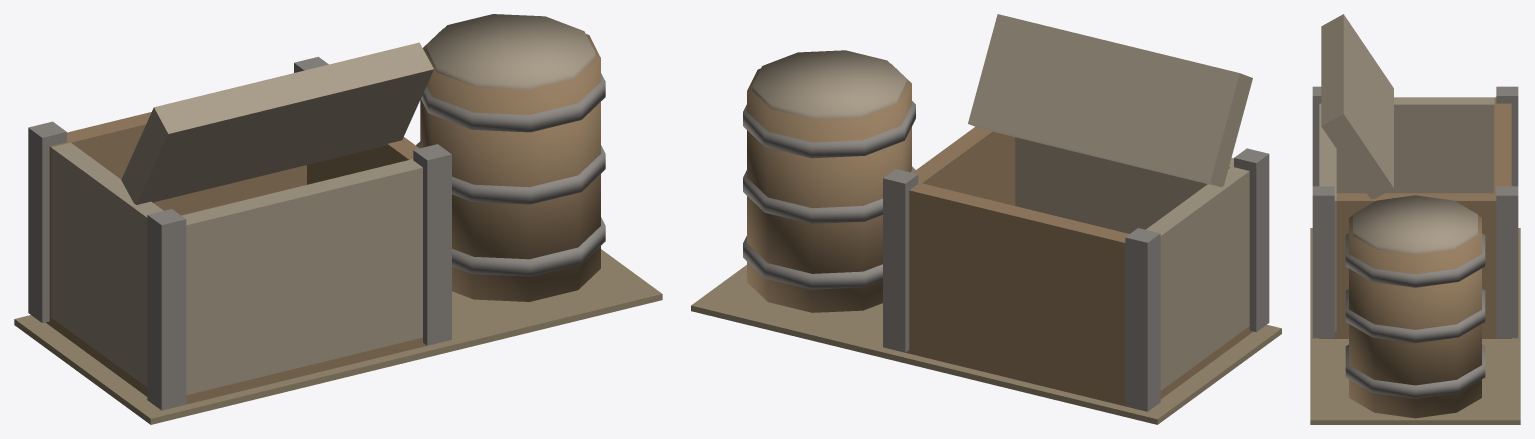
The model's file is inspect_crate.glb.
3 renders of one model, left to right at view 1: azimuth 30°, elevation 25°; view 2: azimuth 150°, elevation 25°; view 3: azimuth 270°, elevation 25°, orthographic. The views are drawn at different scales.
Visible parts, largest first — view 1: Crate_Front, Crate_Lid, Barrel_Body, Crate_Left, Crate_Mud, Barrel_Top, Crate_Iron_0, Crate_Back, Crate_Iron_1, Crate_Iron_2, Barrel_Hoop_0.36, Crate_Floor (+3 smaller); view 2: Crate_Back, Crate_Lid, Barrel_Body, Crate_Left, Crate_Mud, Crate_Front, Barrel_Top, Crate_Iron_2, Crate_Right, Crate_Iron_3, Crate_Iron_0, Barrel_Hoop_0.36 (+3 smaller); view 3: Barrel_Body, Crate_Left, Crate_Lid, Crate_Mud, Barrel_Top, Crate_Right, Crate_Iron_1, Crate_Iron_3, Barrel_Hoop_0.22, Barrel_Hoop_0.36, Barrel_Hoop_0.08, Crate_Back (+4 smaller).
Part boxes in pixels (x1,y1,x2,y2): Crate_Front: (181, 159, 422, 395); Crate_Lid: (121, 42, 433, 204); Barrel_Body: (420, 29, 600, 301); Crate_Left: (51, 142, 163, 387); Crate_Mud: (14, 249, 662, 424); Barrel_Top: (426, 14, 595, 89); Crate_Iron_0: (147, 209, 186, 410); Crate_Back: (49, 112, 306, 316); Crate_Iron_1: (413, 144, 451, 345); Crate_Iron_2: (28, 121, 66, 323); Barrel_Hoop_0.36: (421, 73, 605, 132); Crate_Floor: (46, 316, 426, 404); Crate_Back: (909, 182, 1129, 397); Crate_Lid: (968, 14, 1252, 187); Barrel_Body: (747, 64, 911, 312); Crate_Left: (1146, 167, 1248, 390); Crate_Mud: (691, 265, 1281, 424); Crate_Front: (1015, 137, 1249, 326); Barrel_Top: (752, 50, 906, 119); Crate_Iron_2: (1125, 228, 1160, 411); Crate_Right: (912, 127, 1015, 205); Crate_Iron_3: (883, 169, 918, 352); Crate_Iron_0: (1234, 148, 1269, 332); Barrel_Hoop_0.36: (743, 101, 915, 158); Barrel_Body: (1349, 215, 1481, 418); Crate_Left: (1336, 97, 1494, 193); Crate_Lid: (1321, 14, 1393, 198); Crate_Mud: (1310, 228, 1520, 424); Barrel_Top: (1353, 195, 1477, 254); Crate_Right: (1336, 193, 1494, 331); Crate_Iron_1: (1312, 186, 1334, 338); Crate_Iron_3: (1496, 186, 1518, 338); Barrel_Hoop_0.22: (1345, 289, 1485, 343); Barrel_Hoop_0.36: (1345, 233, 1485, 287); Barrel_Hoop_0.08: (1345, 344, 1485, 398); Crate_Back: (1494, 97, 1511, 331).
Size of the model in its own units: 1.04 by 0.5747 by 0.48.
